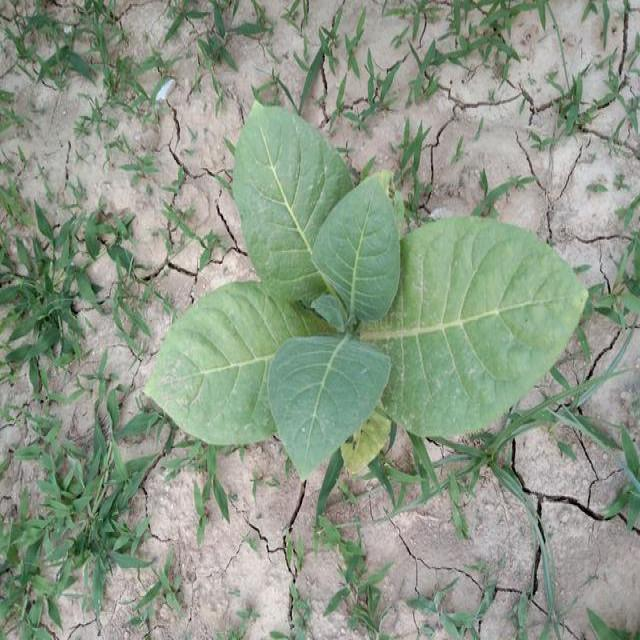crop: (125, 85, 598, 490)
